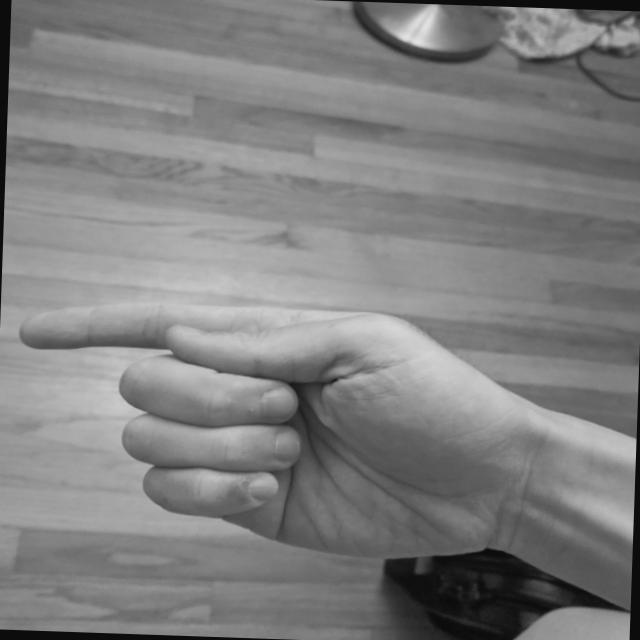G: (2, 288, 514, 572)
